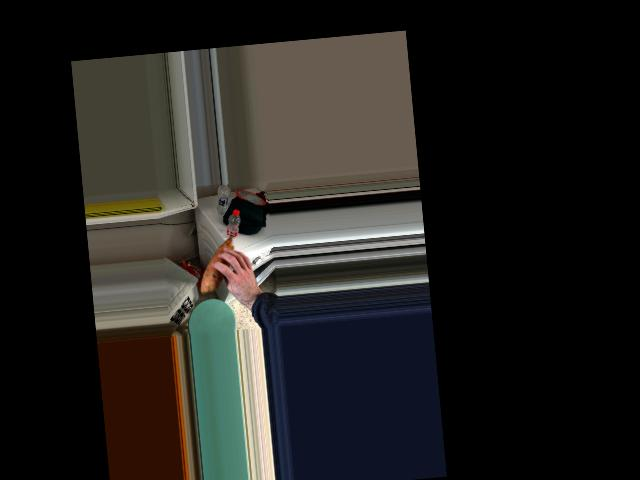sweet_potato: (196, 238, 243, 286)
